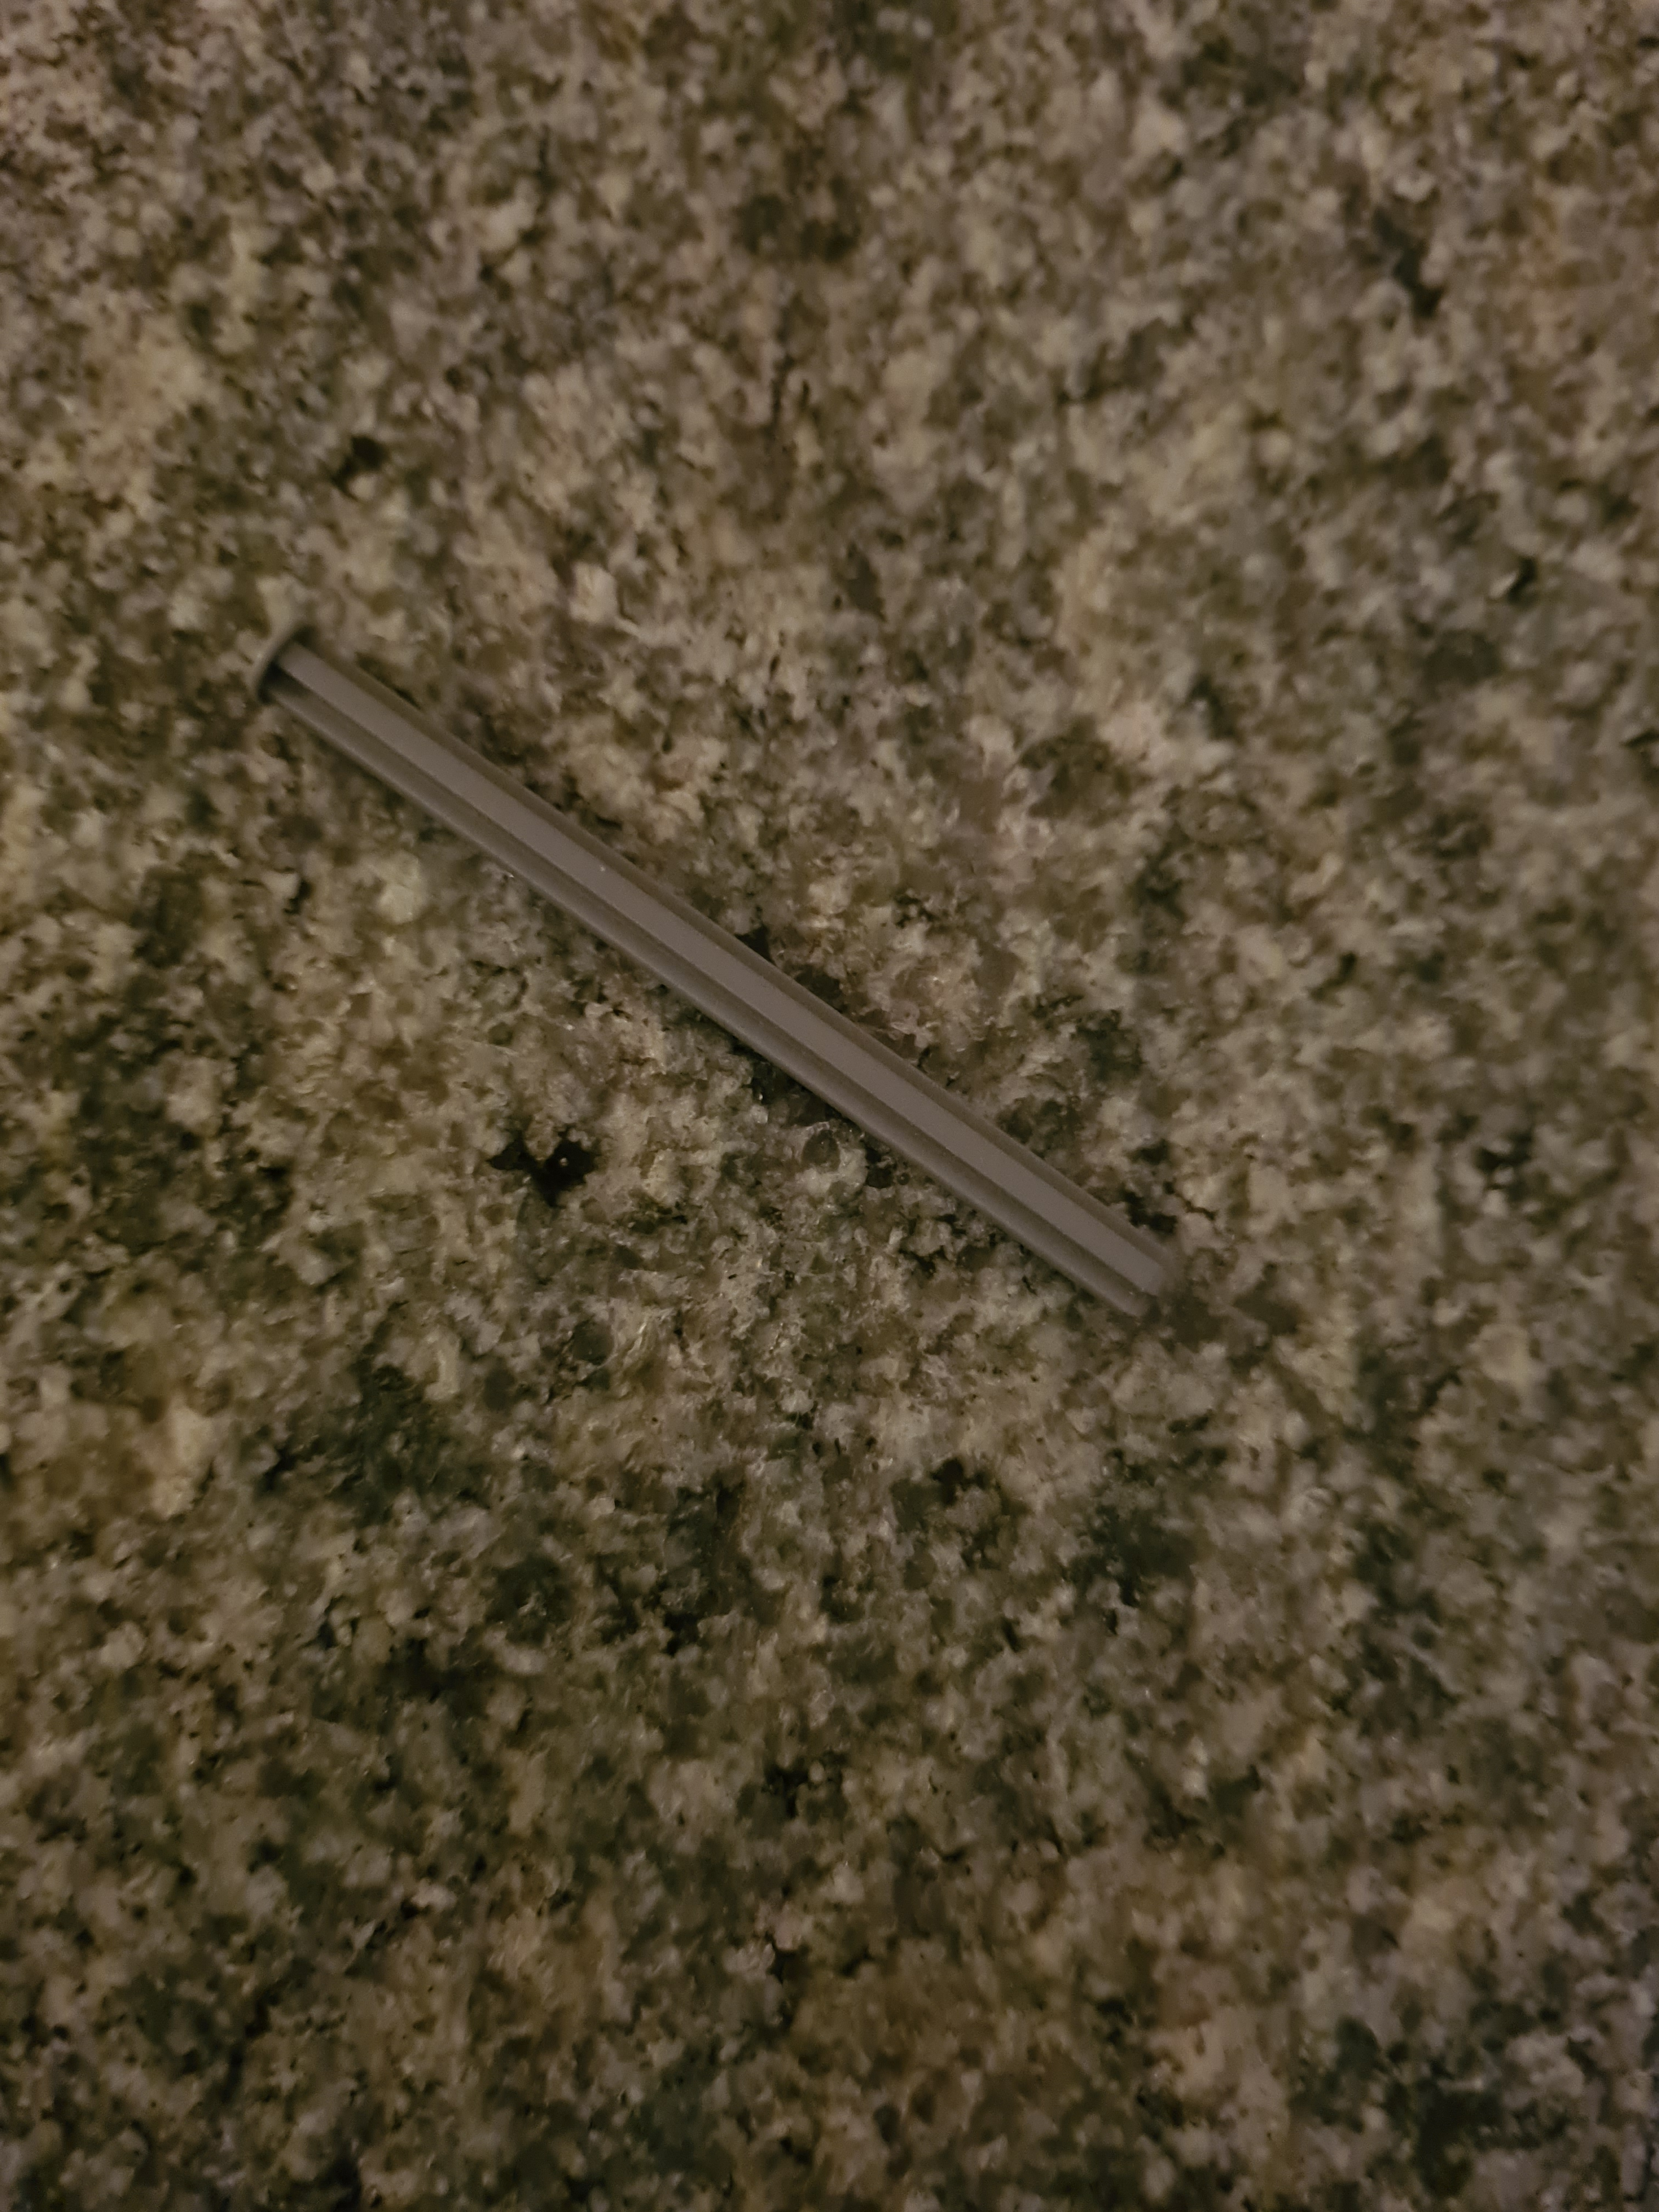Grau_lang: (242, 615, 1209, 1338)
